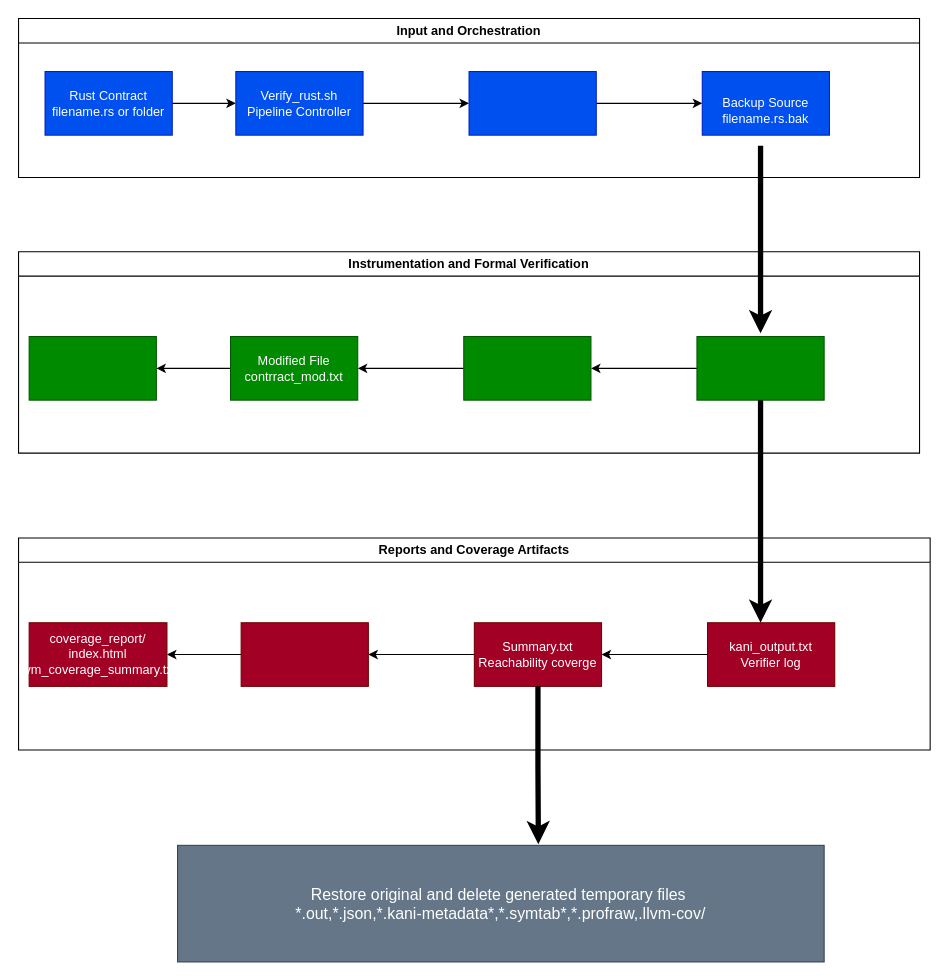
The diagram is 949 pixels wide and 980 high, and some of its shapes have lost their labels. The centre of each missing label's shape, as x and y in pixels:
cargo llvm-cov Branch coverage: (x=304, y=654)
Inject Assertions REACHABLE_TRUE / FALSE: (x=527, y=367)
Kani Model checking: (x=92, y=367)
Pre Cleanup Delete old temp articrafts: (x=532, y=102)
Rust_injectro.py Scans if/while conditions: (x=760, y=367)
